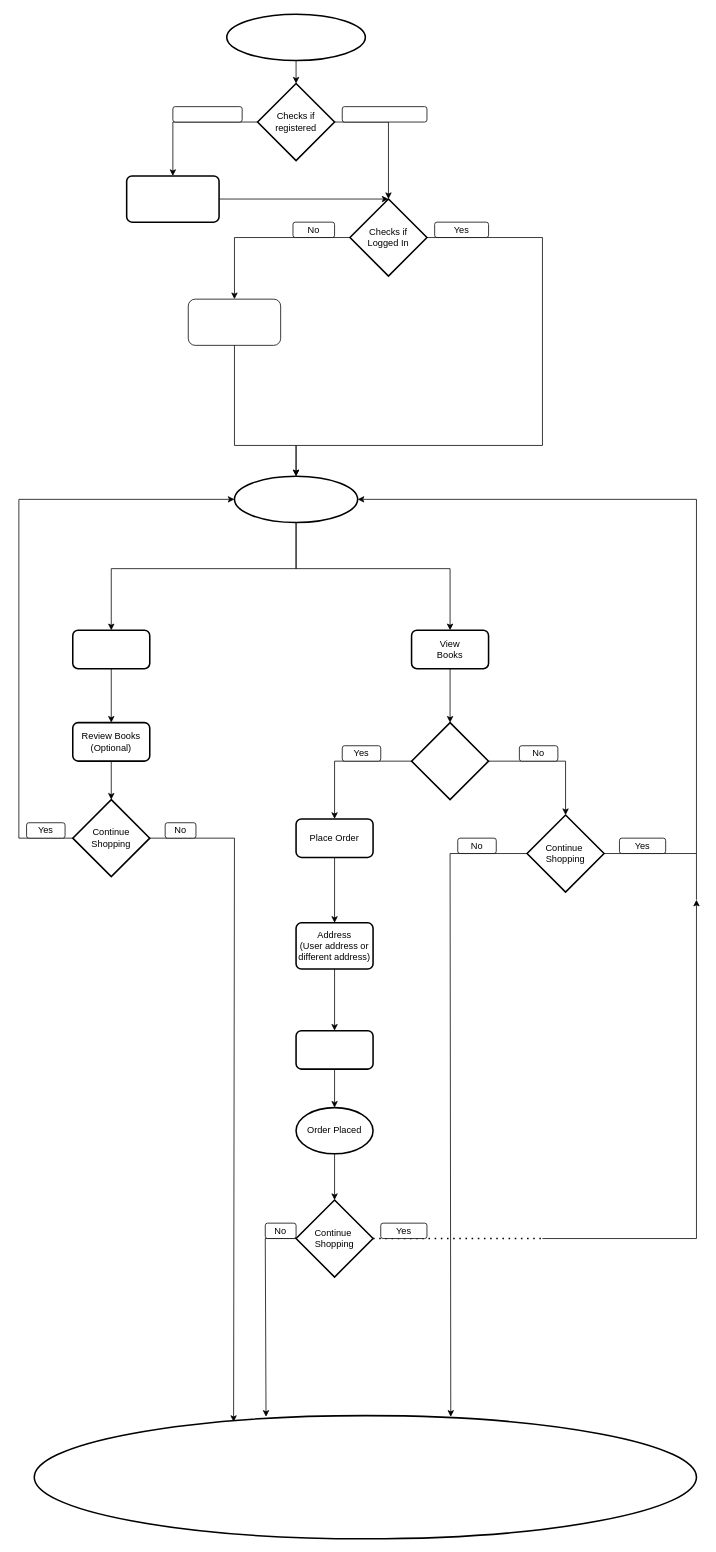
This 716x1552 diagram has some shape labels left out. The centre of each missing label's shape, as x and y in pixels:
already registered: (384,114)
END: (365,1476)
Enters Website as Authorized User: (295,499)
Log In First: (234,321)
Not Registered: (207,114)
Payment: (334,1049)
Register First: (172,199)
User Enters a Website: (296,37)
View Already Purchased Books: (111,649)
Want to purchase this Book: (449,760)
